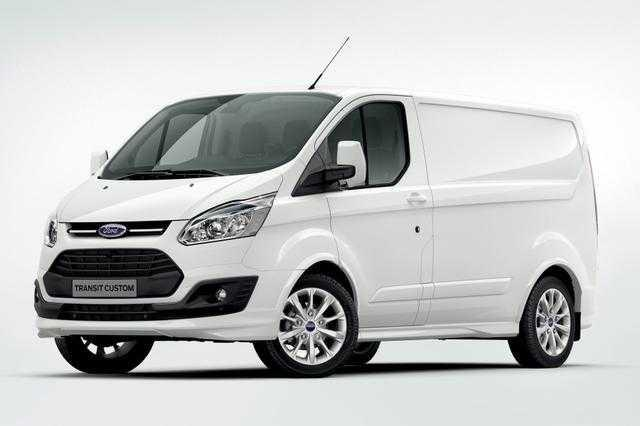car: (30, 91, 594, 375)
